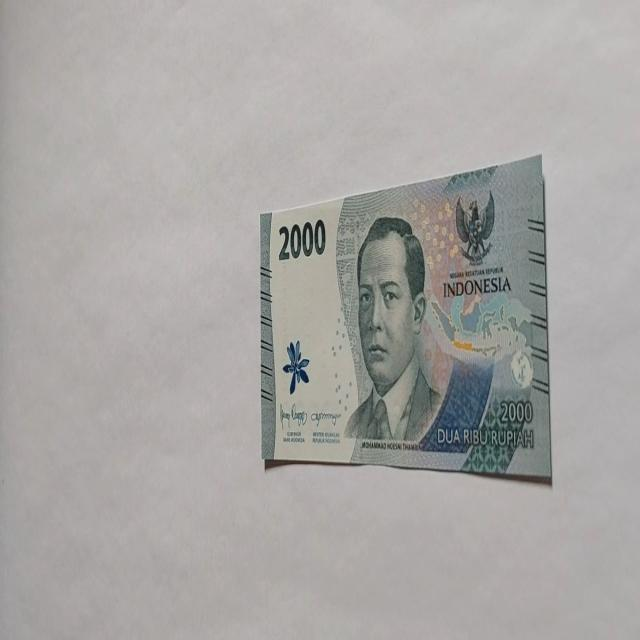dua ribu rupiah: (259, 153, 551, 480), (343, 215, 443, 445)
